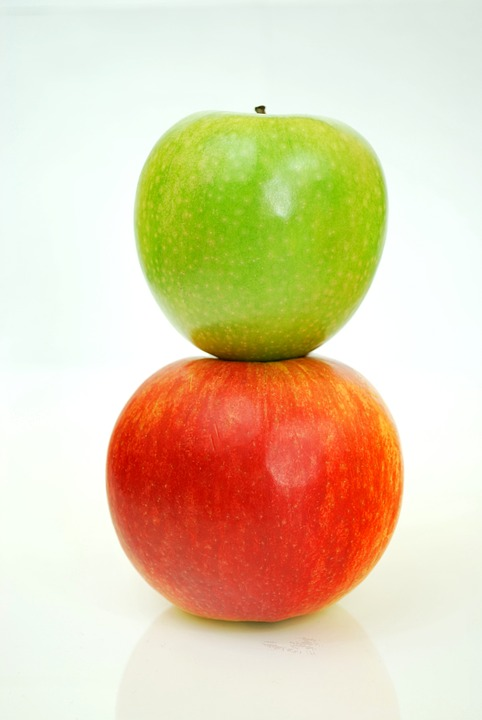apple: (103, 358, 407, 625), (129, 106, 391, 361)
